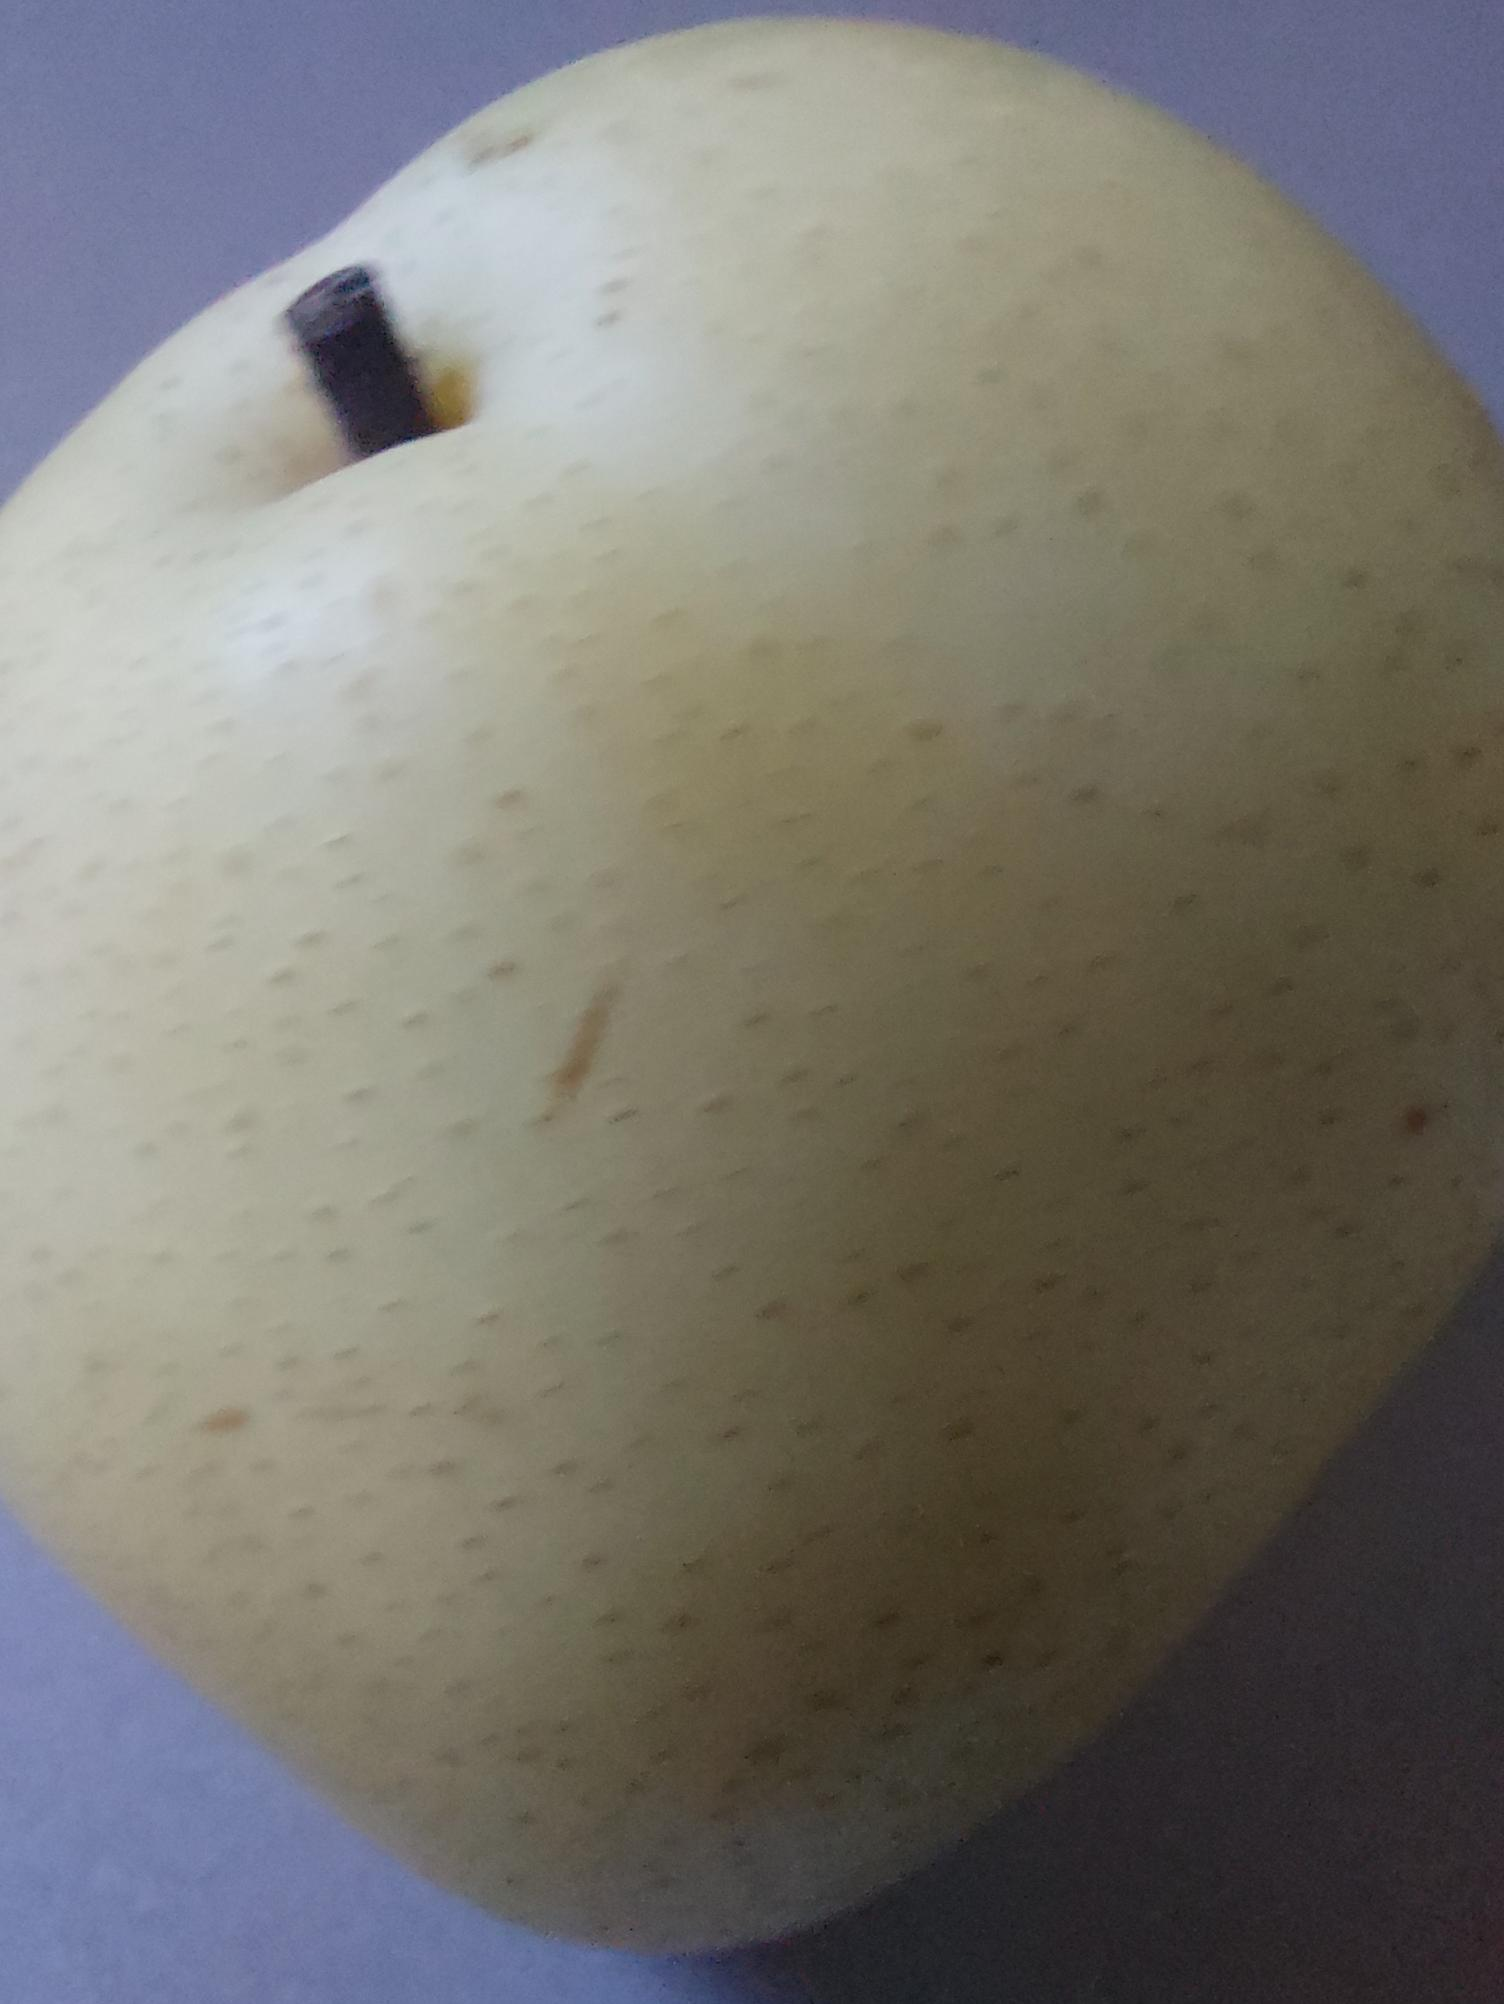Good Pear: (0, 0, 1504, 1965)
